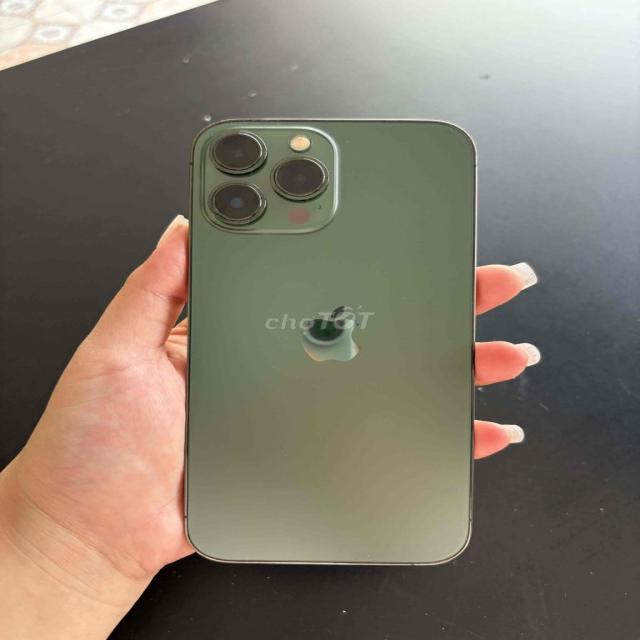gen_12_13: (181, 110, 480, 570)
